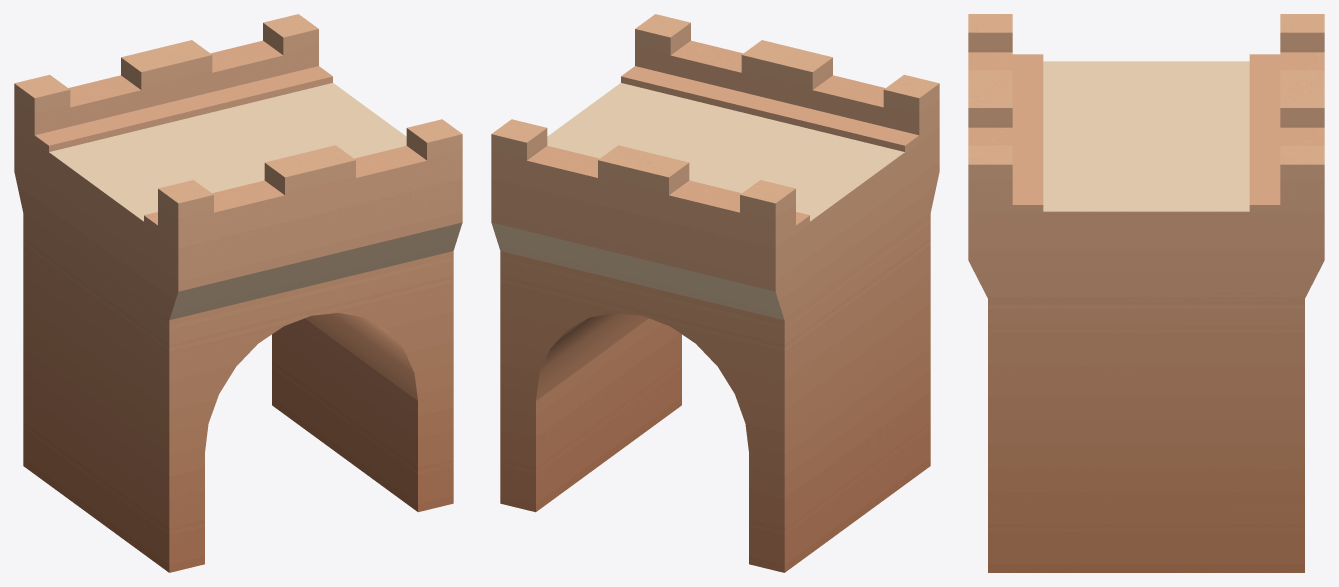
The model's file is bridge-straight.glb.
The picture shows the model from 3 angles, left to right: view 1: azimuth 30°, elevation 25°; view 2: azimuth 150°, elevation 25°; view 3: azimuth 270°, elevation 25°; orthographic projection. The views are drawn at different scales.
Visible parts, largest first — view 1: bridge-straight; view 2: bridge-straight; view 3: bridge-straight.
Boxes of the visible parts, <box> form: bridge-straight: <box>14,14,462,572</box>; bridge-straight: <box>491,14,939,572</box>; bridge-straight: <box>968,14,1324,572</box>.
Size of the model in its own units: 0.93 by 1.18 by 0.93.
Materials: 1 (1 with a texture image).
